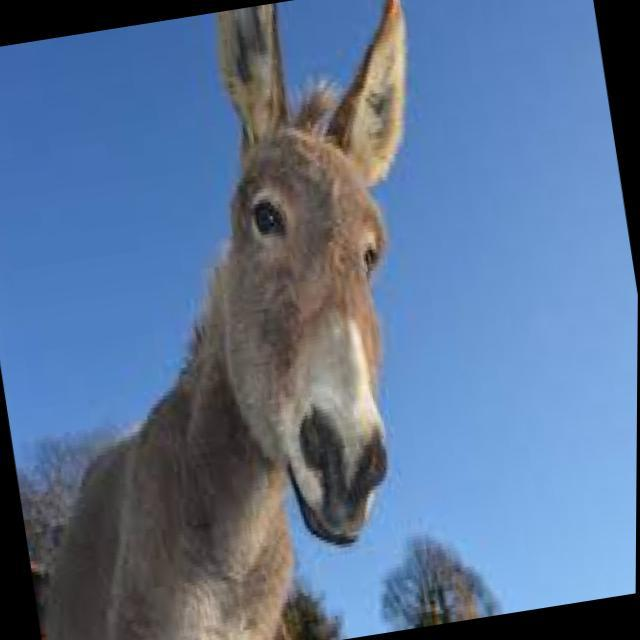Donkey: (0, 0, 522, 640), (127, 0, 527, 567)
